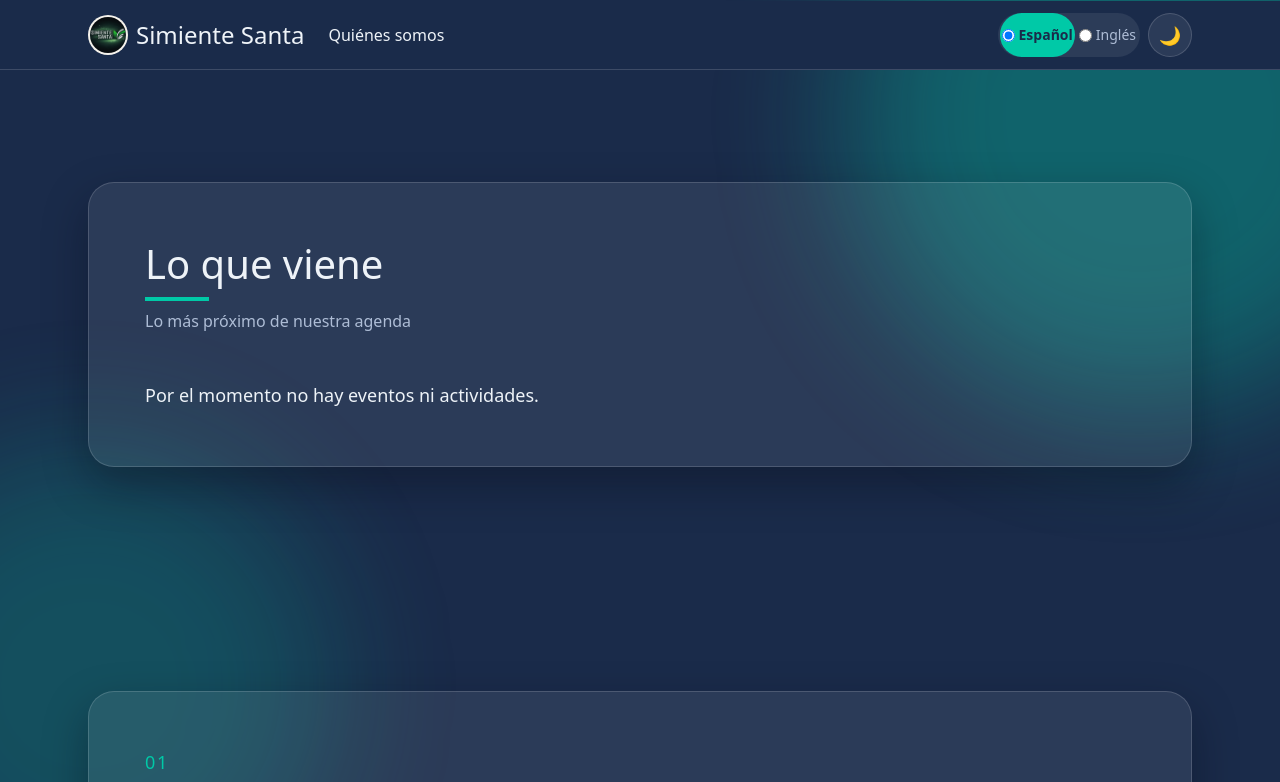
Test: HomePage · idioma (US4, SC-006) › cambia la interfaz al instante y pide los contenidos en el idioma activo
This screenshot has width=1280, height=782.
Click the radio button labelled "Inglés" at {"x": 1085, "y": 35}, box [1079, 28, 1092, 42]
(page scrolled)
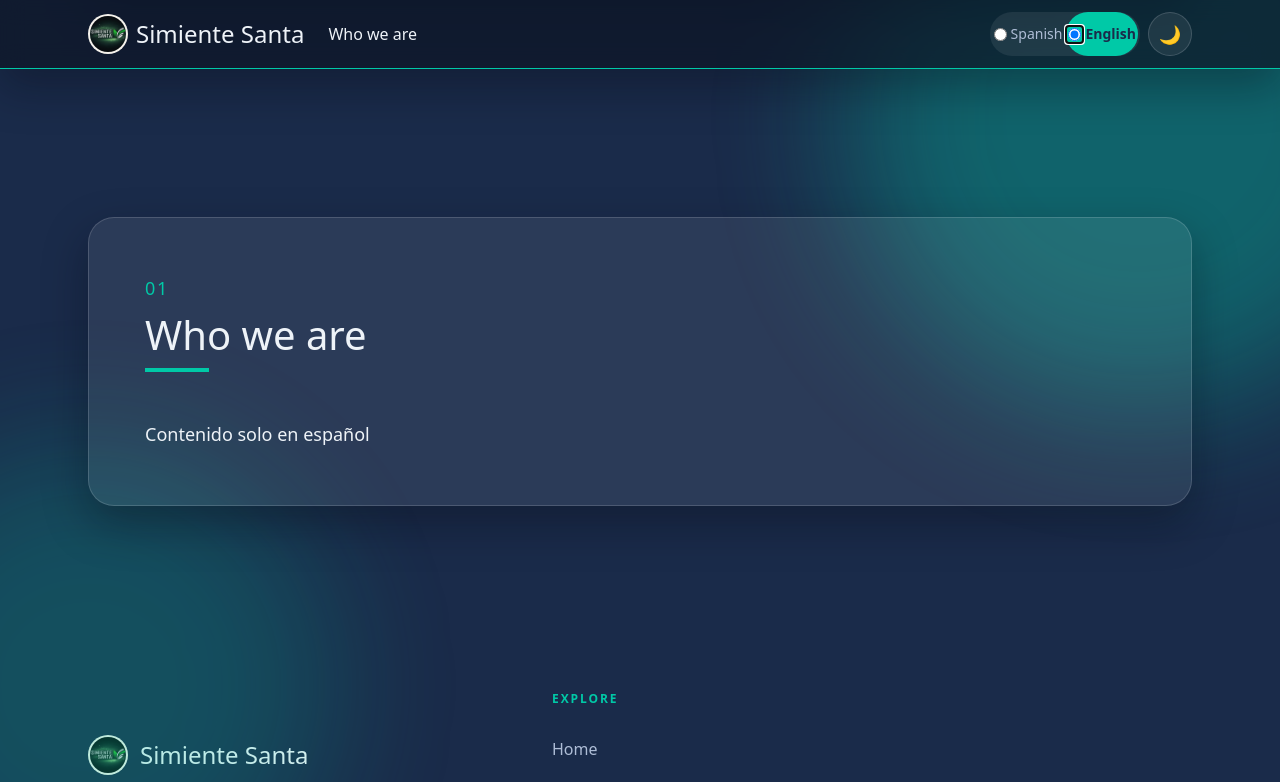
Check: the text "Contenido solo en español" is shown, box [145, 422, 370, 446]
Check: the navigation bar named "Page sections" is shown, box [328, 23, 417, 45]
